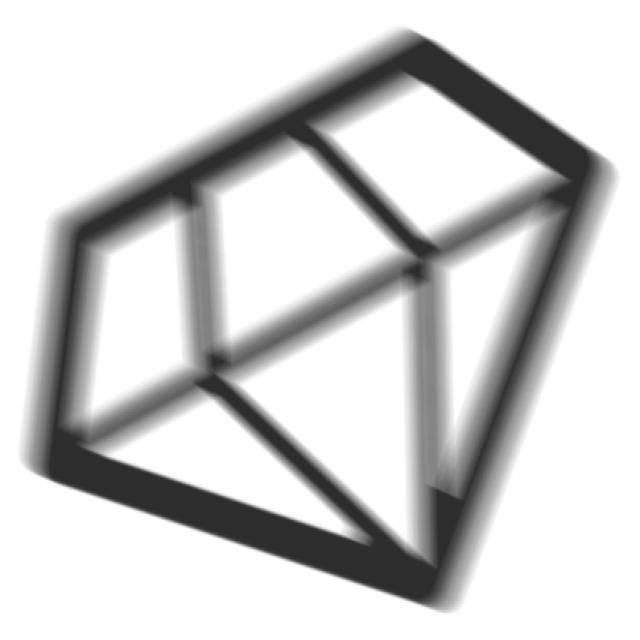diamond: (9, 16, 628, 628)
